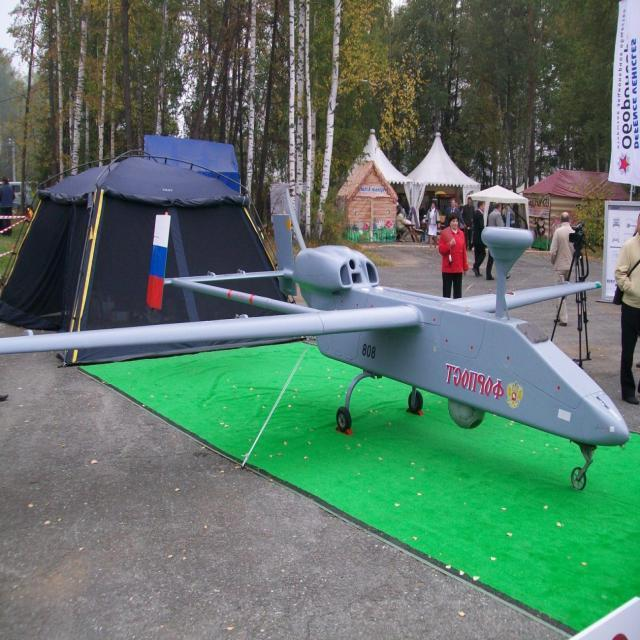iha: (0, 240, 634, 455)
